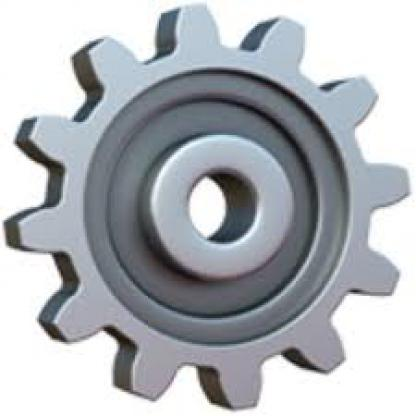FOD: (2, 5, 414, 413)
